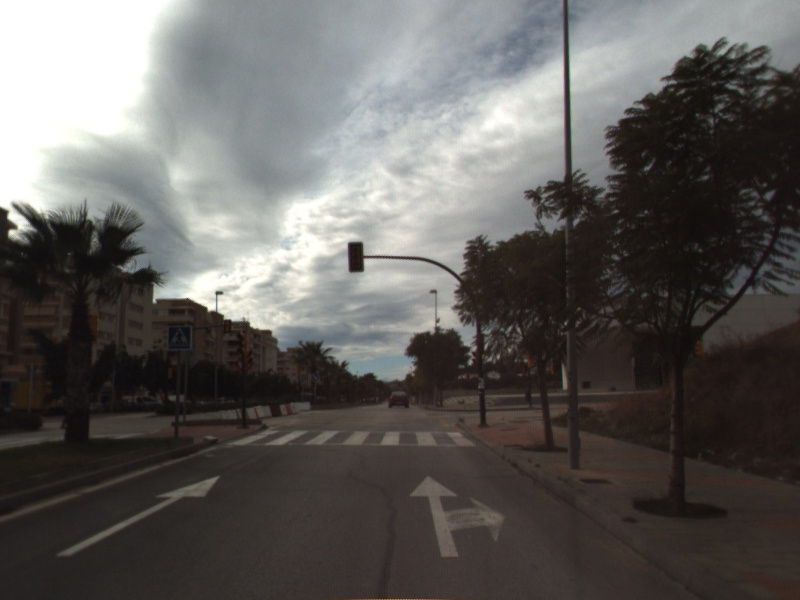STRAIGHT: (53, 473, 222, 559)
STRAIGHT_RIGHT: (406, 473, 508, 560)
